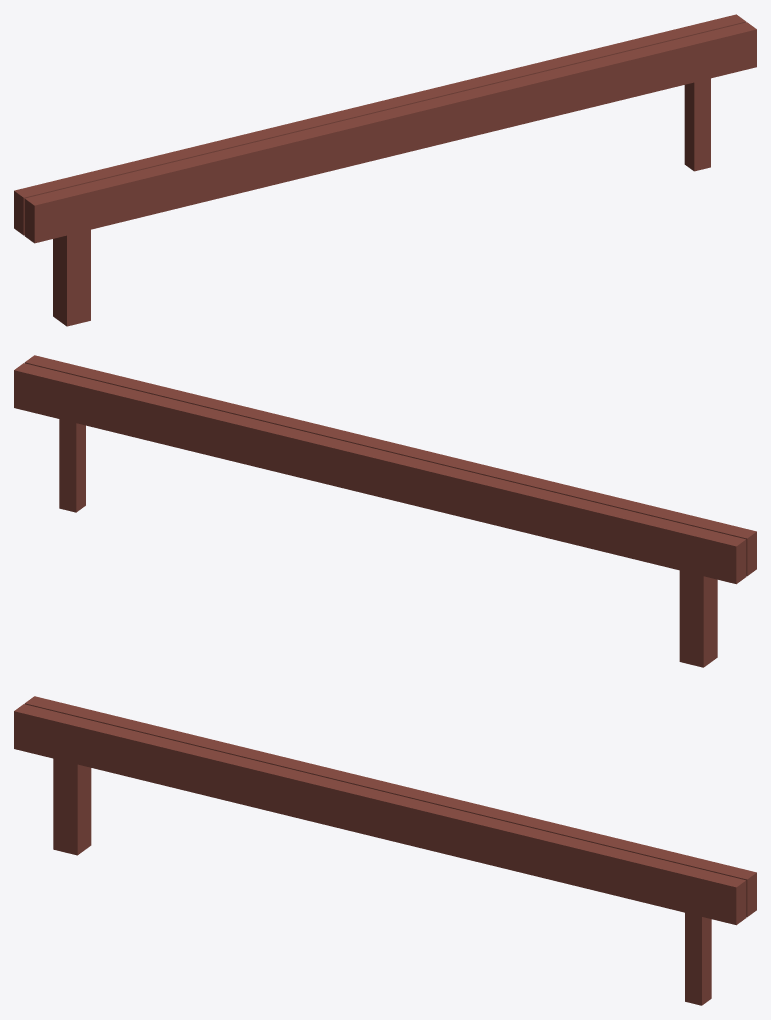
Rendered from furniture4.fbx.
3 renders of one model, top to bottom at view 1: azimuth 30°, elevation 25°; view 2: azimuth 150°, elevation 25°; view 3: azimuth 330°, elevation 25°, orthographic.
Parts seen in each view (by area): view 1: Cube.018, Cube.019, Cube.020, Cube.021; view 2: Cube.019, Cube.018, Cube.020, Cube.021; view 3: Cube.018, Cube.019, Cube.020, Cube.021.
Boxes of the visible parts, x1,y1,x2,y2 form: Cube.018: (24, 22, 756, 243); Cube.019: (14, 14, 746, 235); Cube.020: (53, 229, 90, 326); Cube.021: (684, 78, 710, 171); Cube.019: (14, 363, 746, 584); Cube.018: (24, 355, 756, 576); Cube.020: (679, 570, 717, 667); Cube.021: (59, 419, 85, 512); Cube.018: (14, 704, 746, 925); Cube.019: (24, 696, 756, 917); Cube.020: (53, 758, 91, 855); Cube.021: (685, 912, 711, 1005).
Bounding box in the file's own units: 300 × 52.5 × 14.75.
